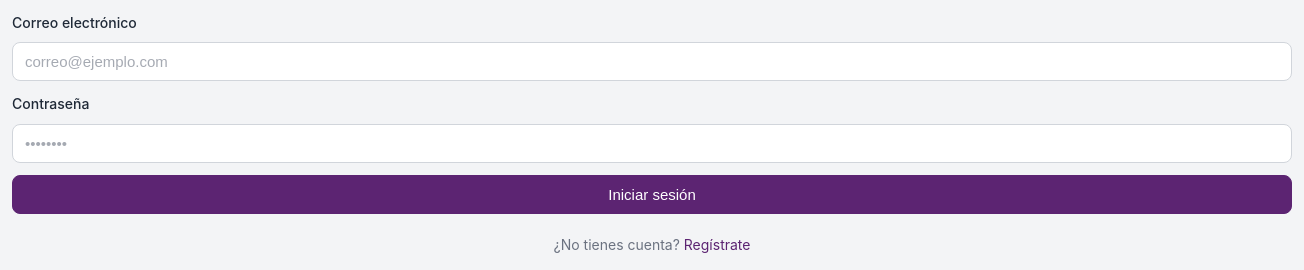
Test case: LoginForm › disables submit button while loading
The width and height of the screenshot is (1304, 270).
Type "test@test.com" into the field labelled "Correo electrónico" at (652, 62), box [12, 42, 1292, 81]
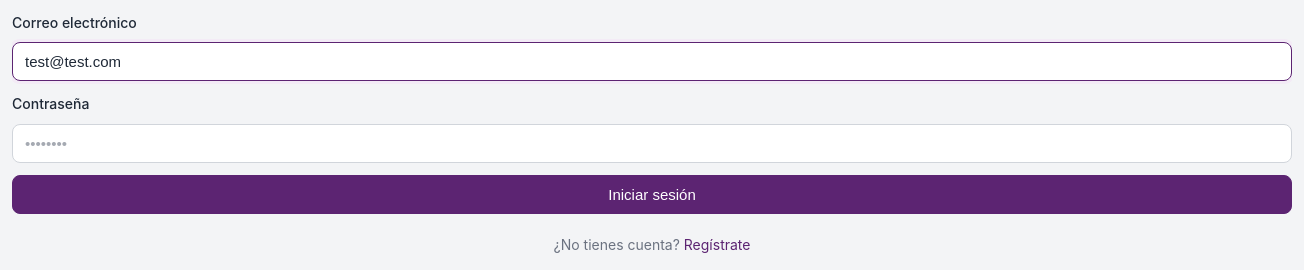
Type "password123" into the password field labelled "Contraseña" at (652, 143), box [12, 124, 1292, 163]
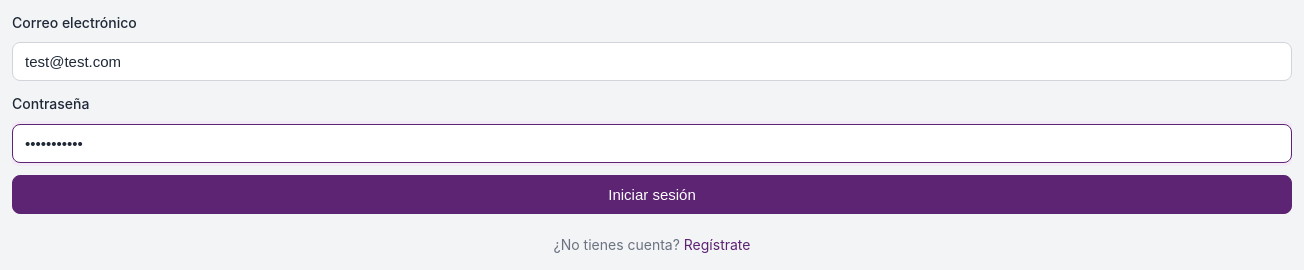
Click the button "Iniciar sesión" at (652, 194), box [12, 175, 1292, 214]
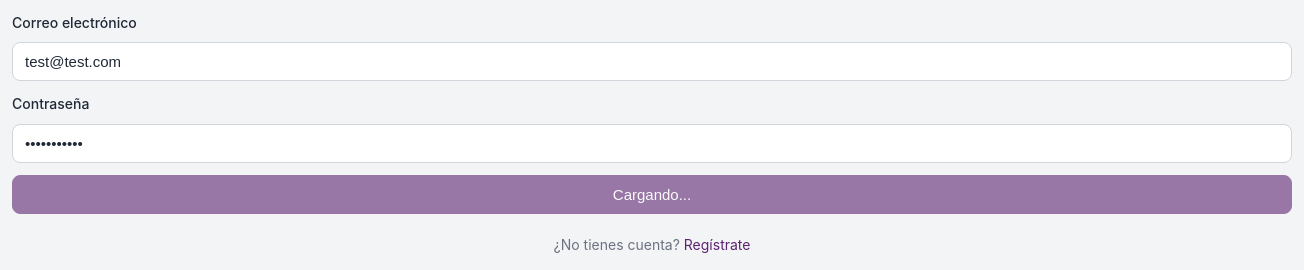
Expected: the button "Cargando..." is disabled, [12, 175, 1292, 214]
